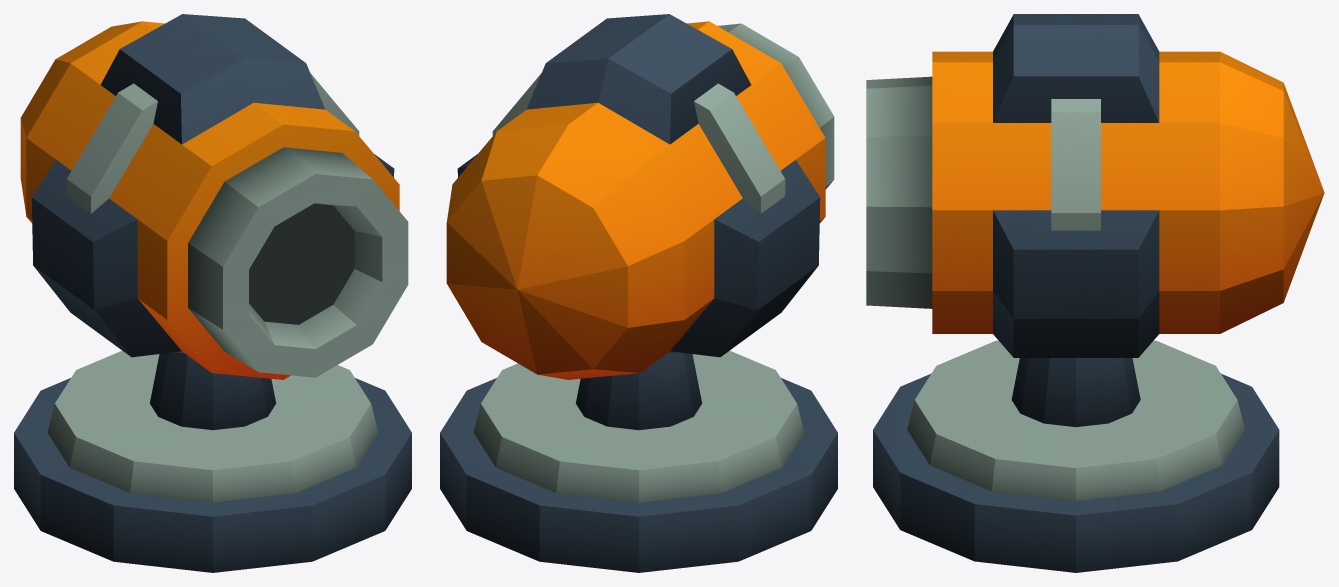
3 views of the same model, side by side, from view 1: azimuth 30°, elevation 25°; view 2: azimuth 150°, elevation 25°; view 3: azimuth 270°, elevation 25° (orthographic). The views are drawn at different scales.
Parts seen in each view (by area): view 1: object.019; view 2: object.019; view 3: object.019.
Boxes of the visible parts, x1,y1,x2,y2 form: object.019: [14, 14, 411, 572]; object.019: [440, 14, 837, 572]; object.019: [866, 14, 1324, 572].
Size of the model in its own units: 155 by 194 by 175.
